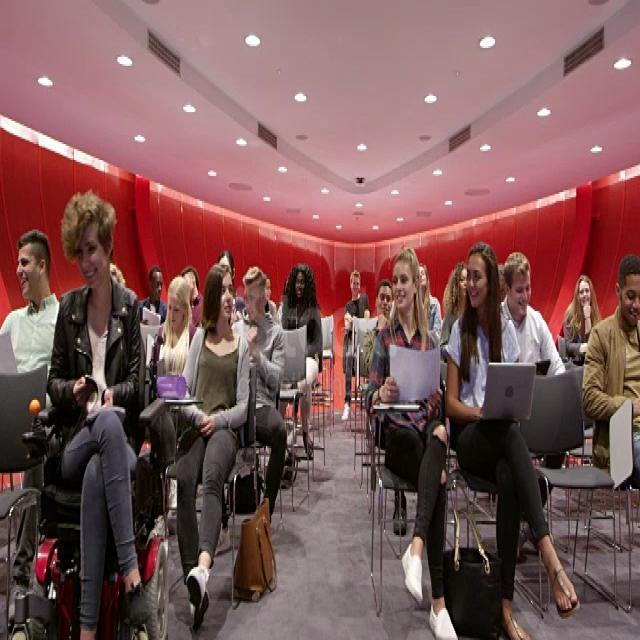Looking away: (76, 226, 110, 290), (16, 242, 42, 300), (466, 253, 489, 309), (392, 260, 414, 314), (509, 268, 531, 317), (619, 274, 640, 324), (216, 271, 234, 321), (244, 279, 264, 322), (168, 285, 185, 333), (150, 268, 164, 302)
Looking forward: (377, 286, 392, 319), (578, 278, 592, 309), (296, 266, 306, 302), (351, 274, 360, 296)
